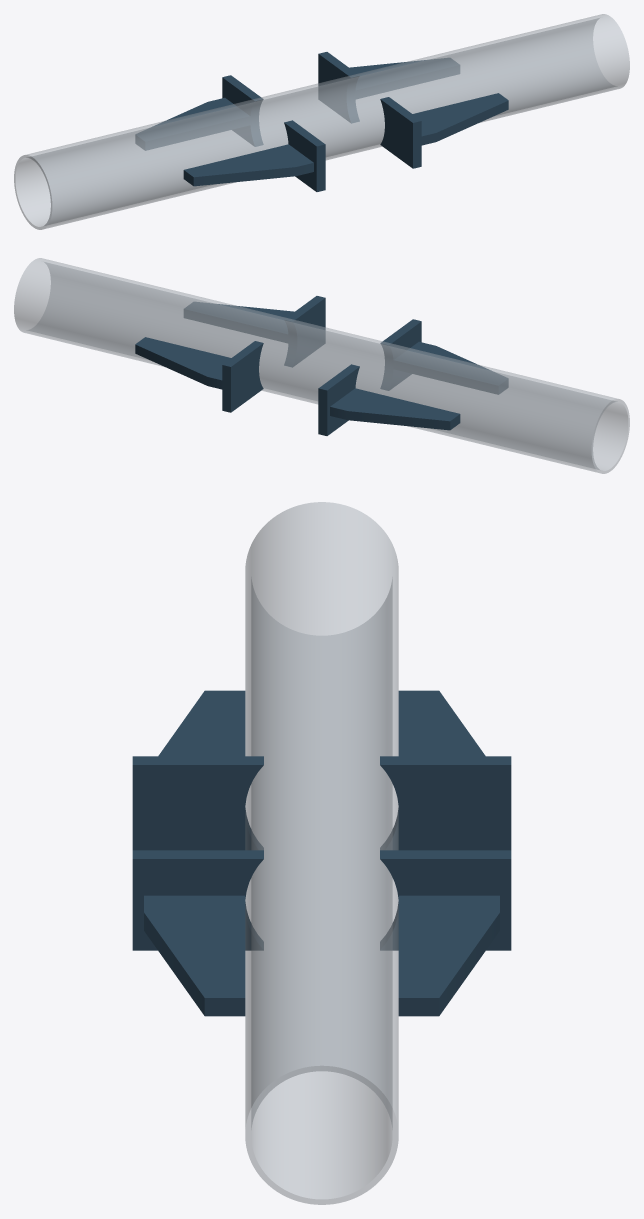
File: TS-760.00.00-01-opora-dn76.glb
3 renders of one model, top to bottom at view 1: azimuth 30°, elevation 25°; view 2: azimuth 150°, elevation 25°; view 3: azimuth 270°, elevation 25°, orthographic. The views are drawn at different scales.
Parts seen in each view (by area): view 1: truba, upor_4, upor_8, upor_6, upor_2, upor_1, upor_5, upor_3, upor_7; view 2: truba, upor_8, upor_4, upor_2, upor_6, upor_5, upor_1, upor_7, upor_3; view 3: truba, upor_3, upor_7, upor_2, upor_6, upor_1, upor_5, upor_4, upor_8.
Part boxes in pixels (x1,y1,x2,y2): truba: (14,14,629,229); upor_4: (183,144,313,186); upor_8: (135,97,249,150); upor_6: (349,58,459,98); upor_2: (413,93,508,145); upor_1: (380,97,421,168); upor_5: (318,52,359,123); upor_3: (284,120,325,191); upor_7: (222,75,263,146); truba: (14,258,629,473); upor_8: (330,388,460,430); upor_4: (394,341,508,394); upor_2: (184,302,294,342); upor_6: (135,337,230,389); upor_5: (222,341,263,412); upor_1: (284,296,325,367); upor_7: (318,364,359,435); upor_3: (380,319,421,390); truba: (245,502,398,1204); upor_3: (132,756,263,850); upor_7: (380,756,511,850); upor_2: (144,895,245,1016); upor_6: (398,895,499,1016); upor_1: (132,850,263,950); upor_5: (380,850,511,950); upor_4: (158,690,245,756); upor_8: (398,690,485,756).
Size of the model in its own units: 660 by 76 by 187.
